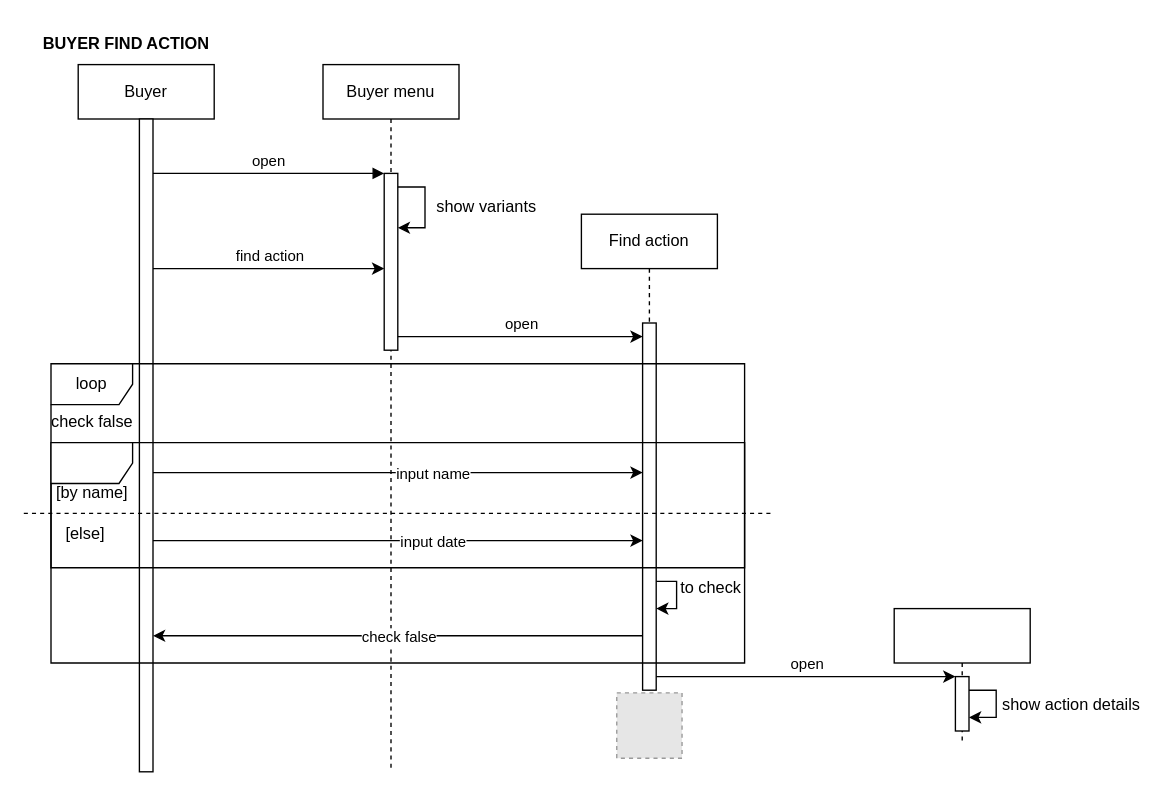
This 1176x796 diagram has some shape labels left out. Grey dashed boxes stand in for pictures. Here are the shapes that lost their labels. From the top down, the box of each, then its label:
(50, 441, 745, 568): alt
(893, 607, 1030, 745): Action
